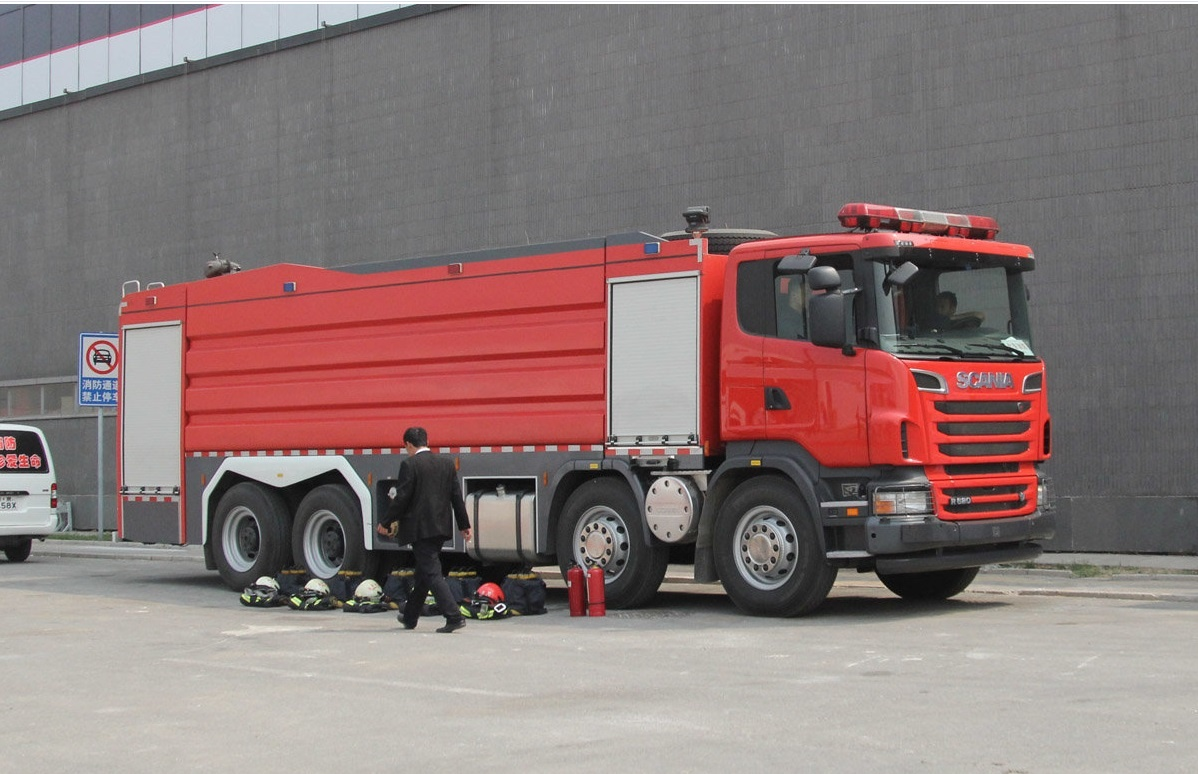fire engine: (97, 226, 1067, 623)
